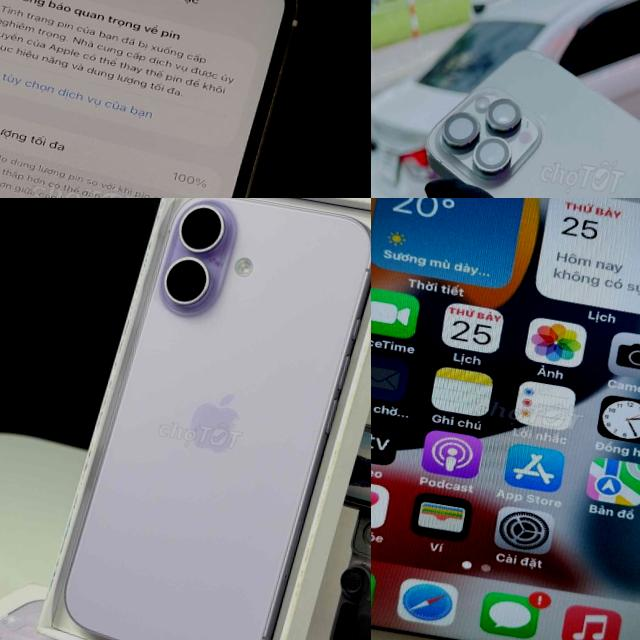gen_12_13: (0, 0, 313, 198), (385, 33, 640, 198)
gen_17: (51, 198, 371, 640)
gen_6: (371, 198, 640, 640)
